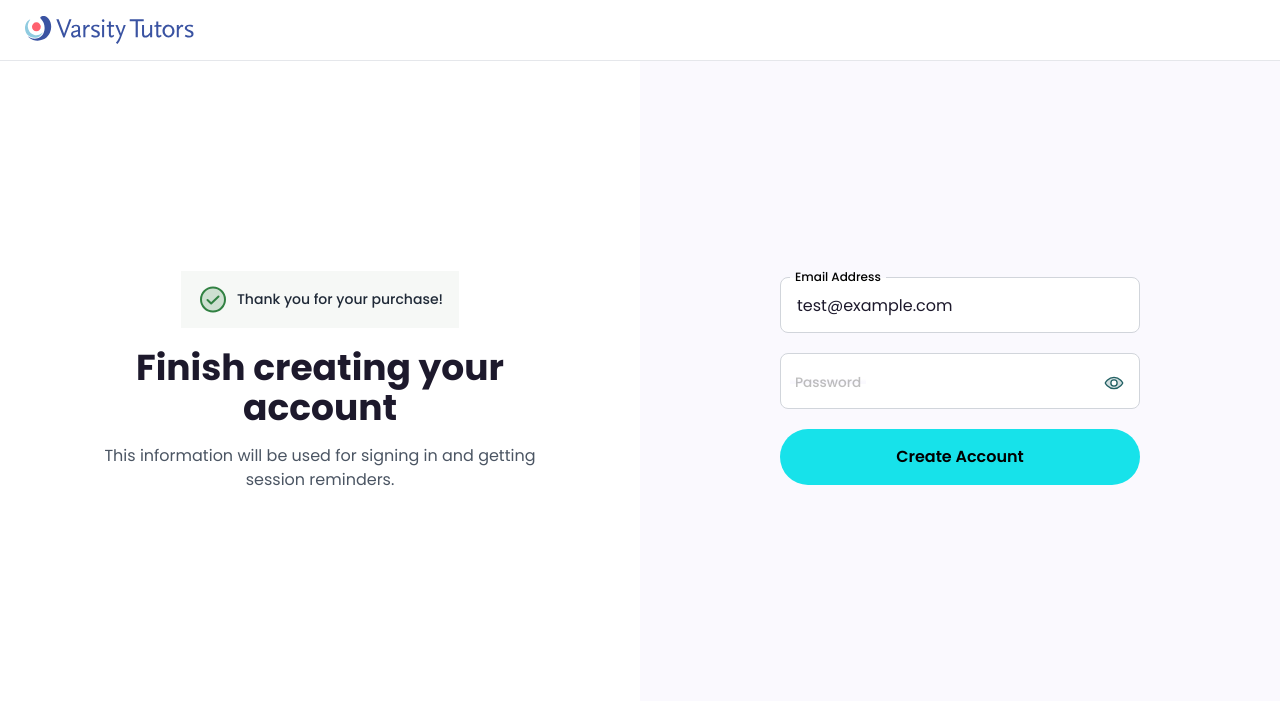
AccountCreationClient › handles API error
Type "Password123" into the password field at (960, 381), box [780,353,1140,409]
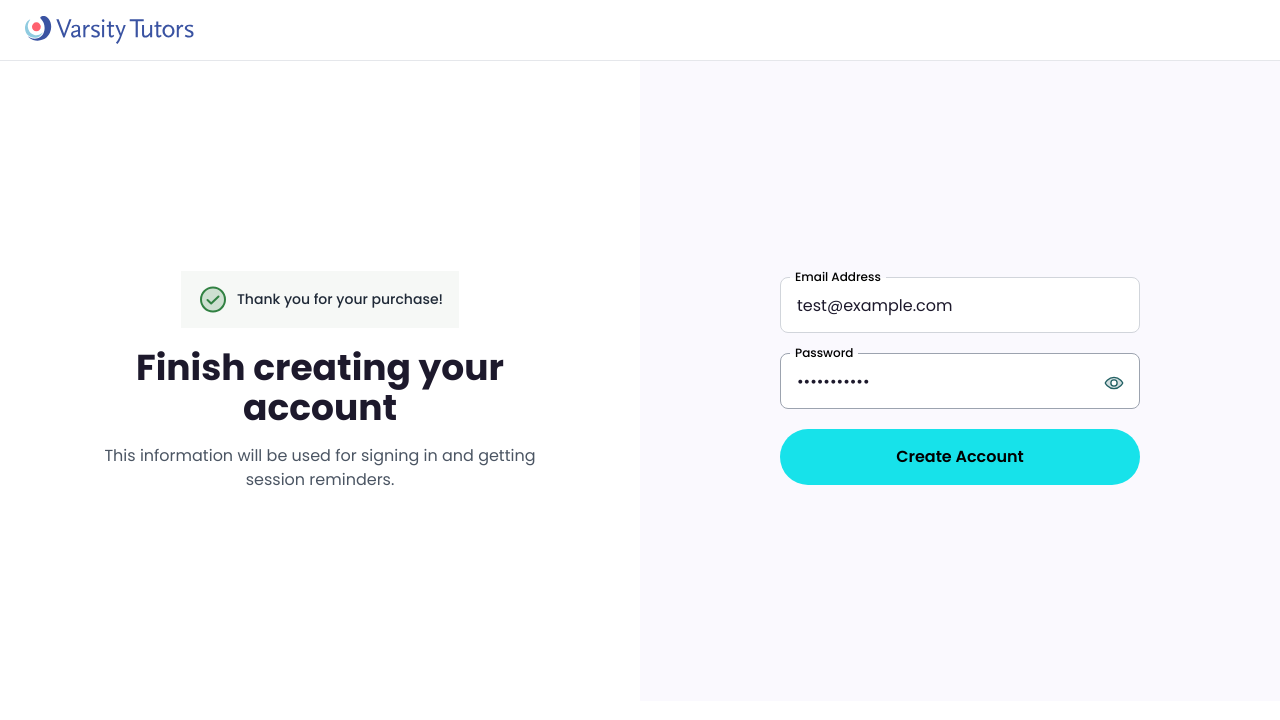
Click the button "Create Account" at (960, 457), box [780,429,1140,485]
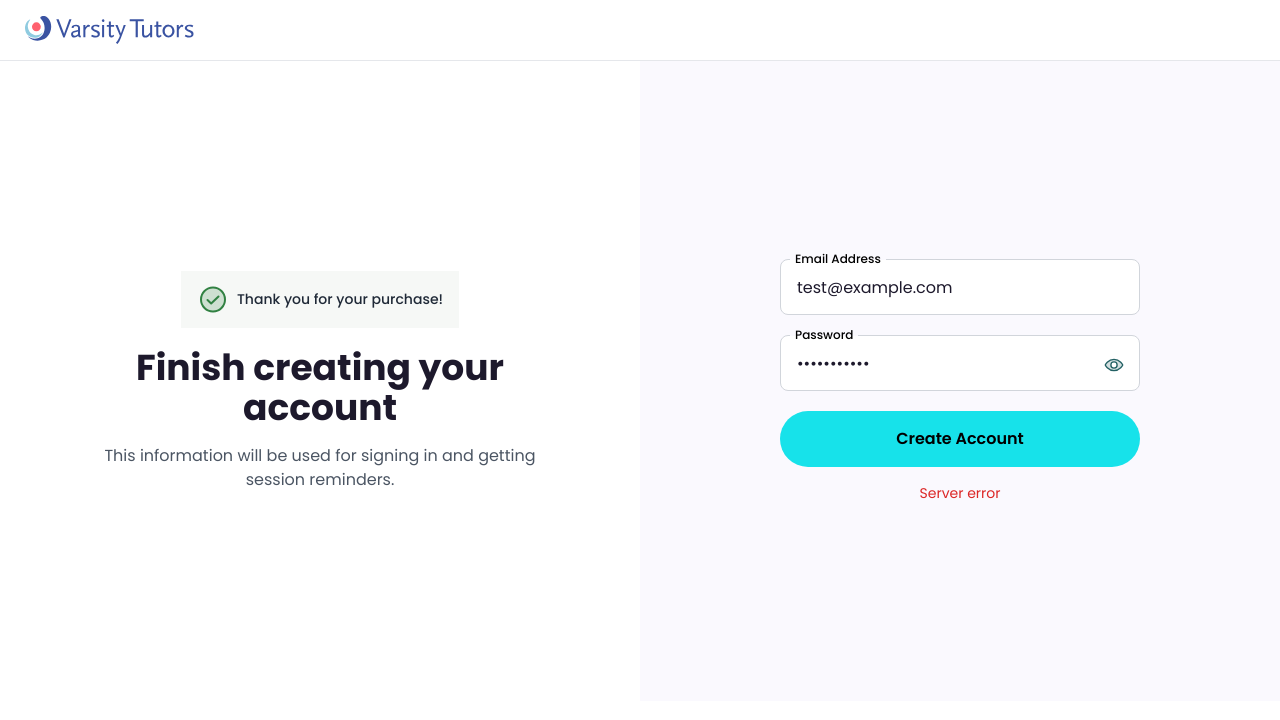
Check: the text "Server error" is shown, box [920,483,1000,503]
